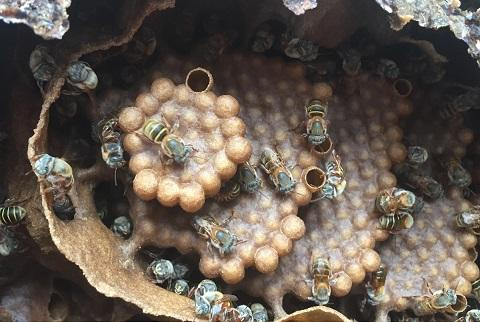Meliponula: (26, 148, 86, 222), (184, 204, 248, 261), (144, 114, 195, 173), (255, 139, 300, 202), (317, 149, 345, 209), (414, 280, 458, 318), (309, 253, 338, 308), (305, 96, 331, 155), (22, 43, 59, 82), (373, 184, 418, 215), (102, 112, 123, 177), (190, 277, 222, 318), (69, 59, 97, 100), (369, 256, 390, 307), (371, 212, 420, 232), (0, 200, 28, 232), (149, 256, 178, 285), (109, 217, 138, 240), (174, 275, 191, 301), (254, 298, 270, 322), (238, 298, 250, 322)
